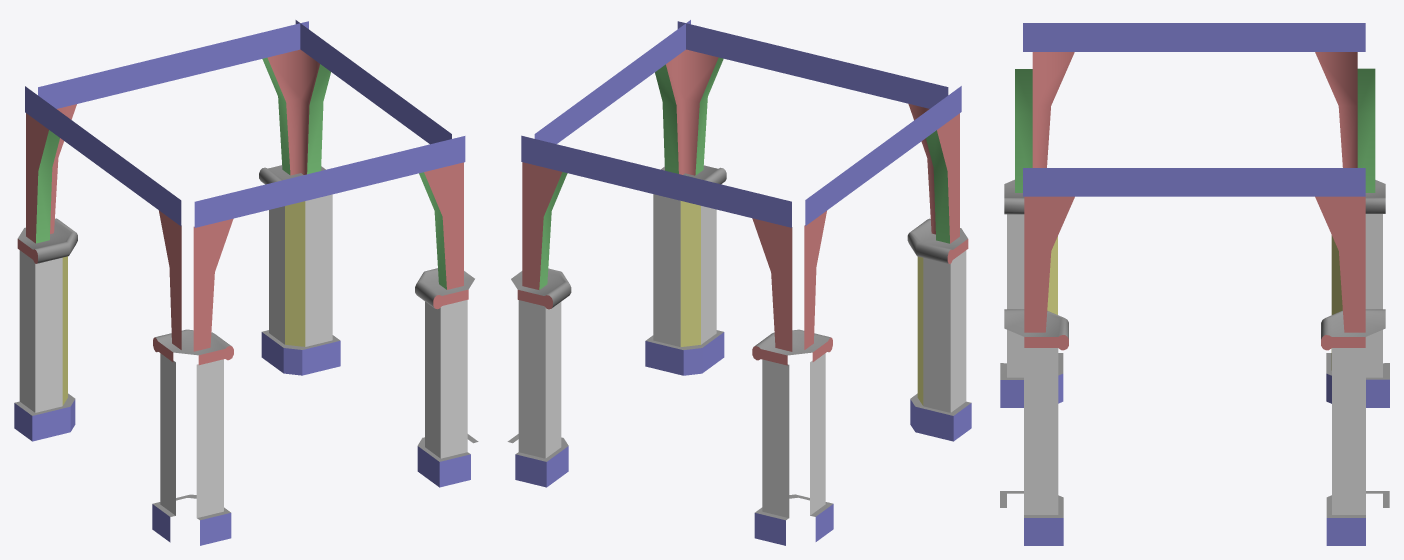
File: SSQ_dungeon_S__SSQ_crossway.gltf
3 views of the same model, side by side, from view 1: azimuth 30°, elevation 25°; view 2: azimuth 150°, elevation 25°; view 3: azimuth 270°, elevation 25° (orthographic). The views are drawn at different scales.
Visible parts, largest first — view 1: SSQ_crossway; view 2: SSQ_crossway; view 3: SSQ_crossway.
Part boxes in pixels (<box>): SSQ_crossway: <box>14,20,478,545</box>; SSQ_crossway: <box>507,20,971,545</box>; SSQ_crossway: <box>1000,23,1389,545</box>.
Size of the model in its own units: 3.65 by 3.84 by 3.64.
